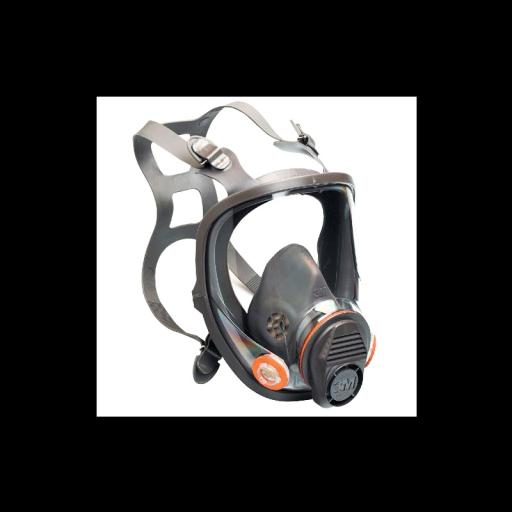mask: (124, 102, 401, 408)
